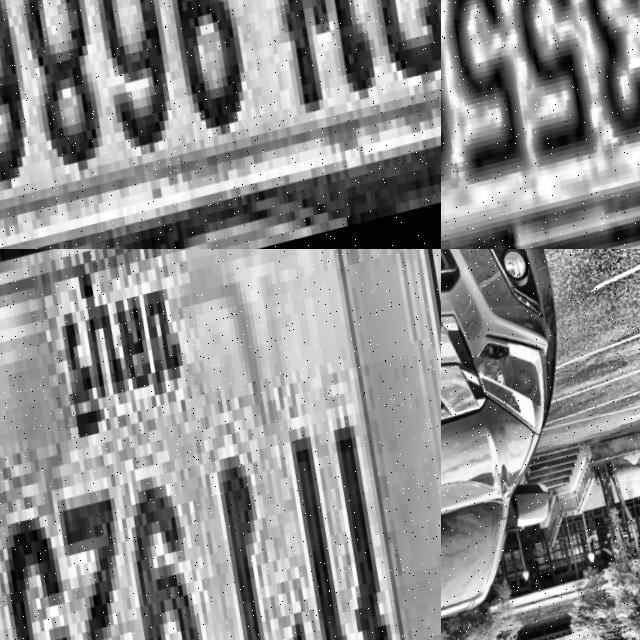license-plate: (0, 249, 441, 640), (0, 0, 441, 249), (441, 0, 640, 249)
